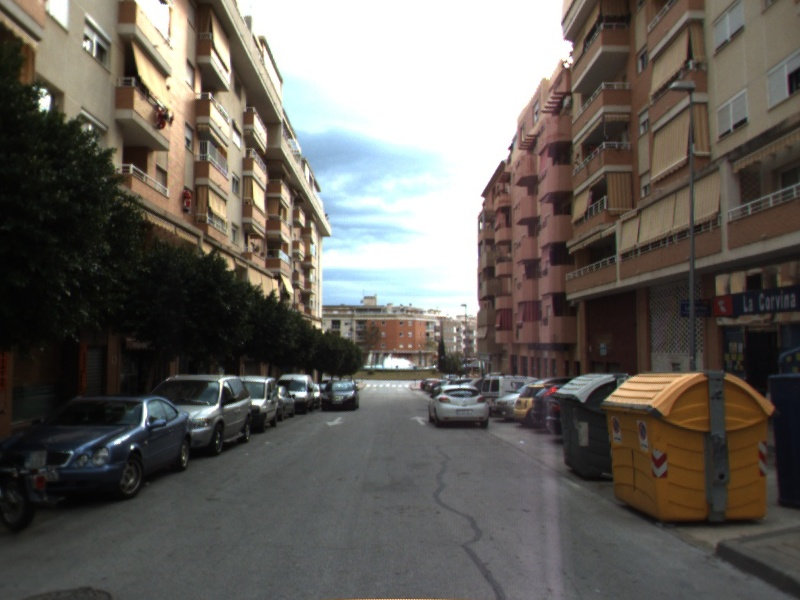STRAIGHT: (408, 414, 429, 427)
